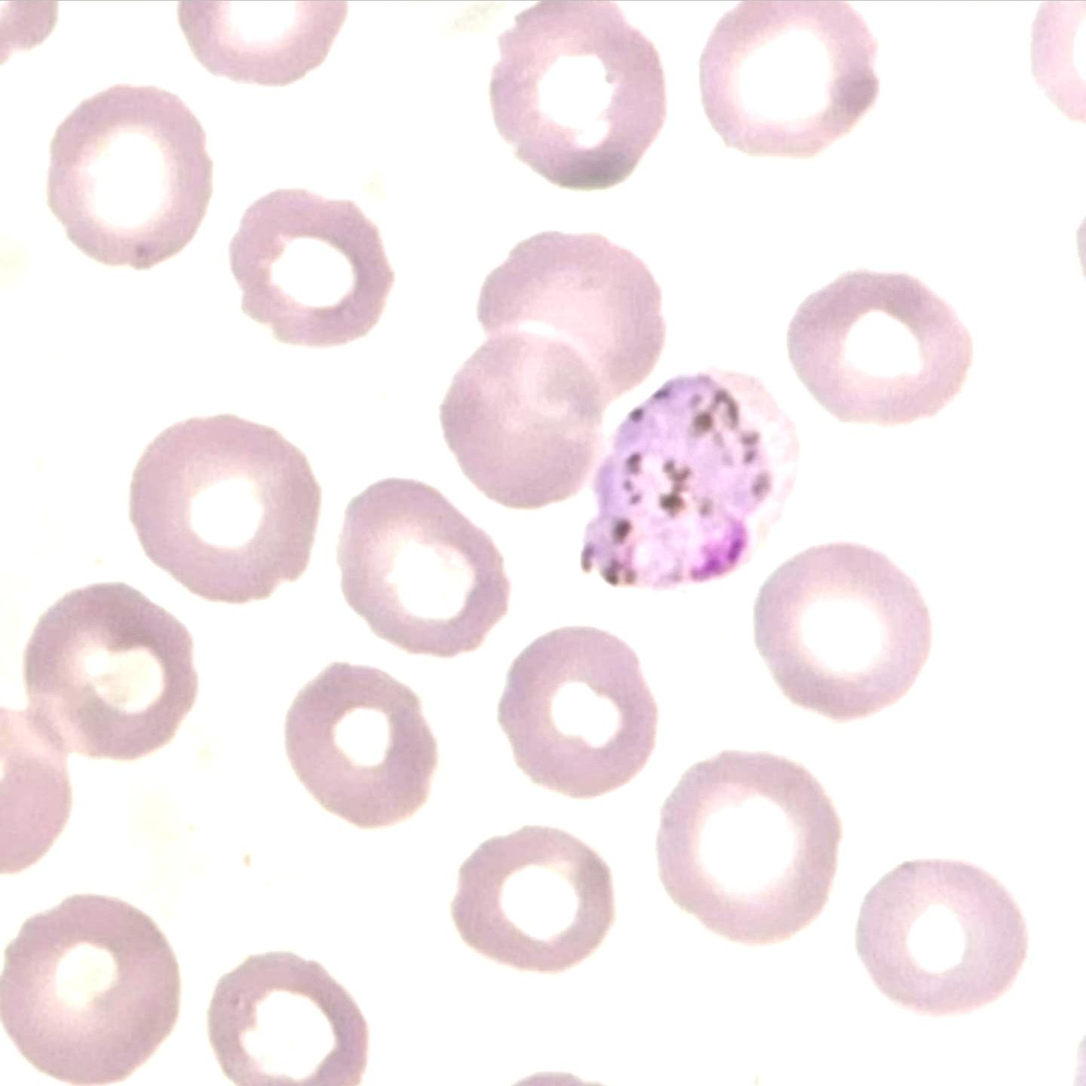Infected: (573, 368, 793, 588)
Uninfected: (129, 414, 318, 604), (661, 752, 841, 940), (0, 894, 178, 1079), (752, 539, 933, 717), (489, 3, 664, 187), (22, 582, 196, 762), (441, 331, 613, 508), (475, 232, 661, 394), (338, 478, 507, 656), (45, 83, 210, 265), (787, 269, 971, 423), (699, 1, 876, 157), (854, 858, 1025, 1014), (503, 624, 662, 791), (228, 187, 394, 344), (286, 666, 439, 829), (452, 828, 613, 974), (208, 950, 367, 1084)
